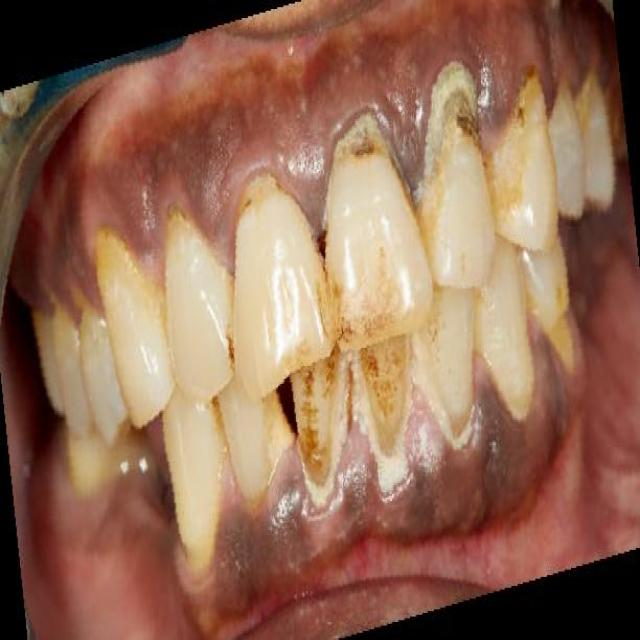caries: (545, 290, 582, 382)
